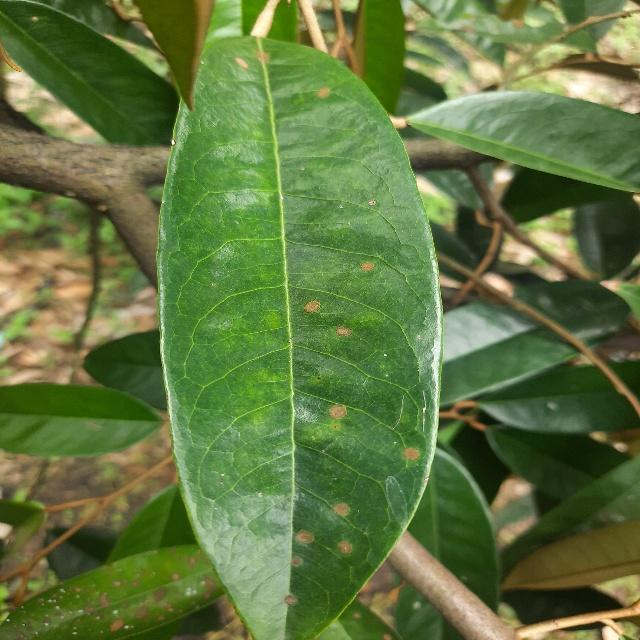Algal Leaf Spot: (149, 25, 450, 640)
